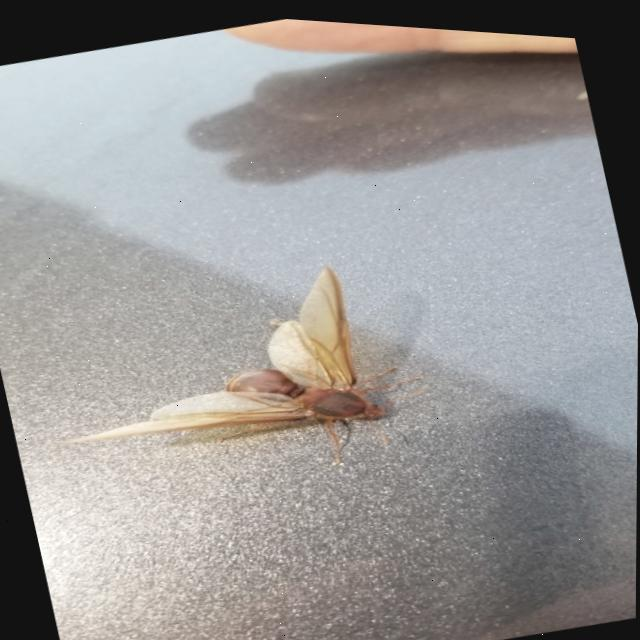Alive-Male-Alate: (32, 229, 445, 528)
